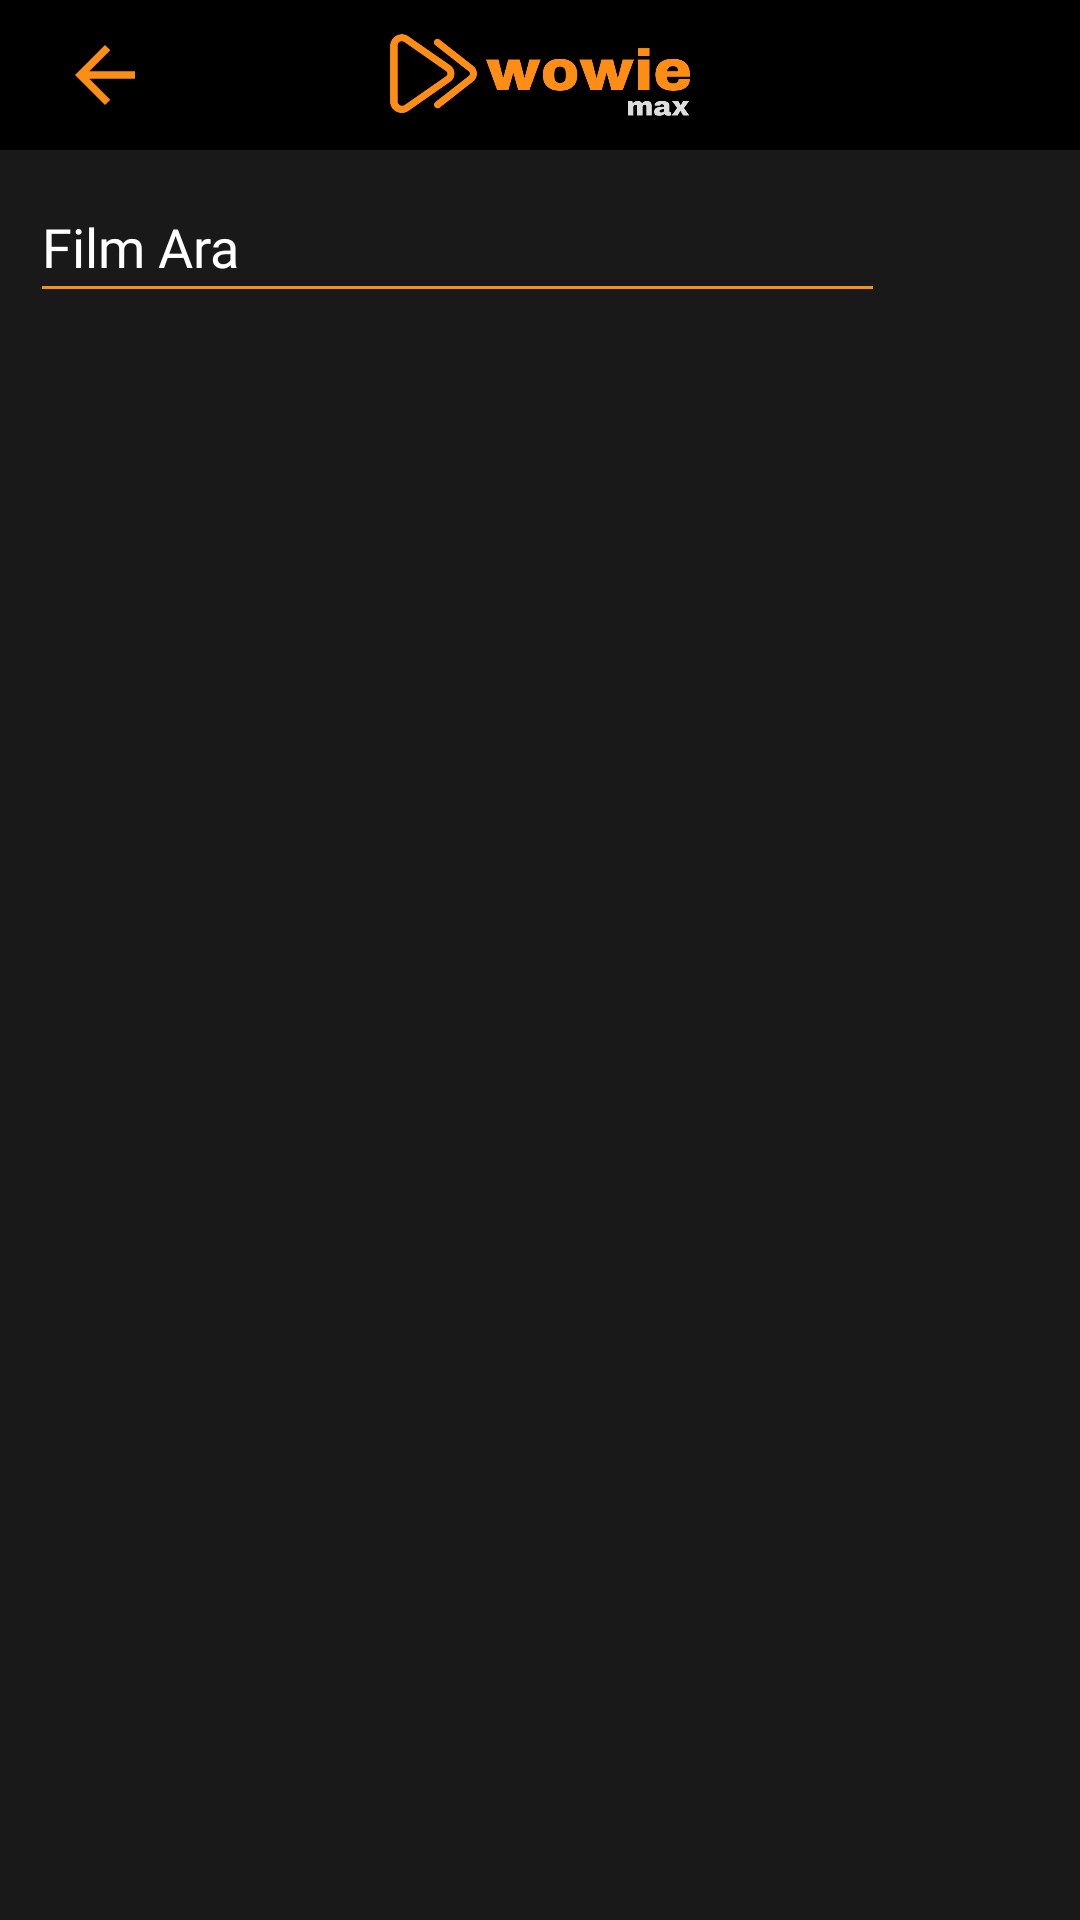

Where icons sit on this 1080x1920 app screen, as (x1, y1, x2, y2):
back: (75, 45, 135, 105)
